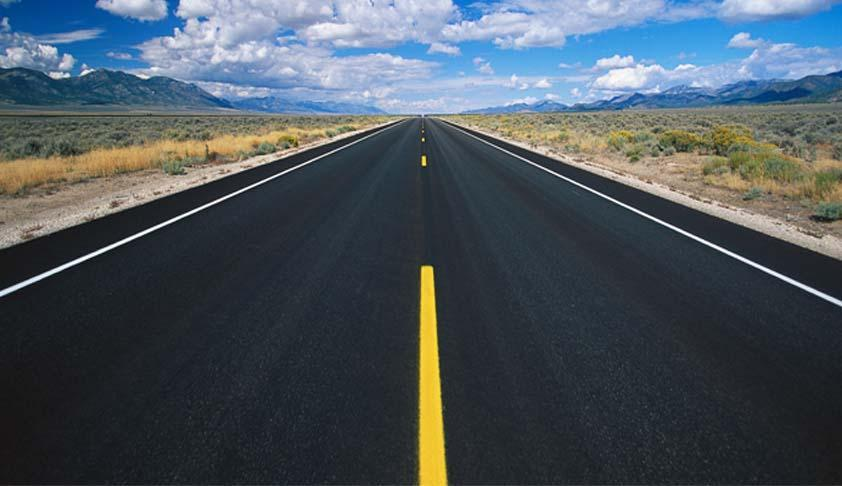cloud: (124, 0, 693, 71)
